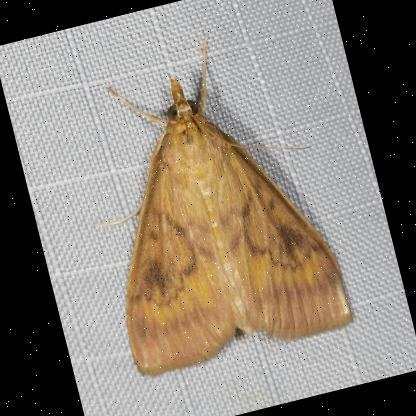Asian Corn Borer Moth: (55, 13, 361, 387)
